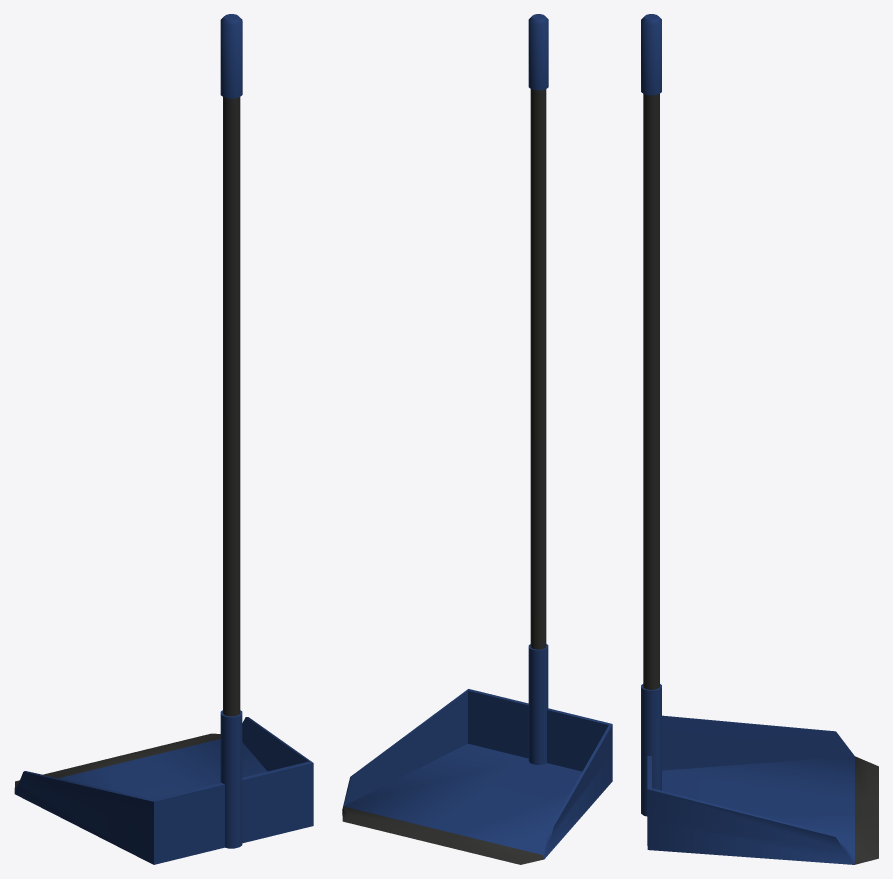
The picture shows the model from 3 angles, left to right: view 1: azimuth 30°, elevation 25°; view 2: azimuth 150°, elevation 25°; view 3: azimuth 270°, elevation 25°; orthographic projection. The views are drawn at different scales.
Visible parts, largest first — view 1: Pa; view 2: Pa; view 3: Pa.
Part boxes in pixels (x1,y1,x2,y2): Pa: (14,14,313,864); Pa: (342,14,612,864); Pa: (641,14,878,864).
Bounding box in the file's own units: 32.82 × 115 × 31.21.
